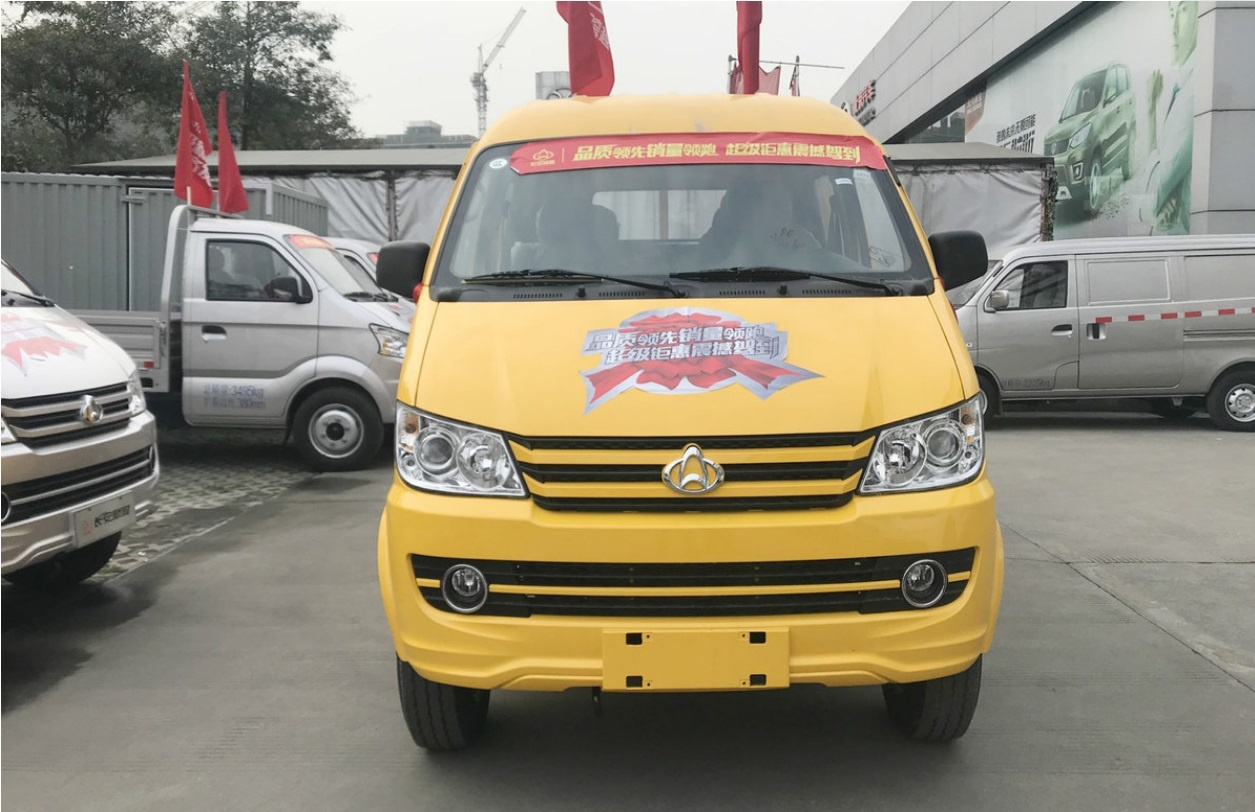minibus: (356, 64, 1019, 754)
